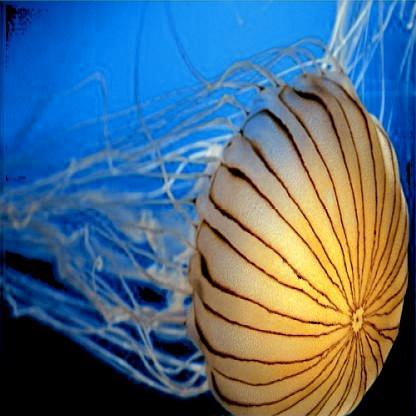Moon: (26, 70, 408, 412)
